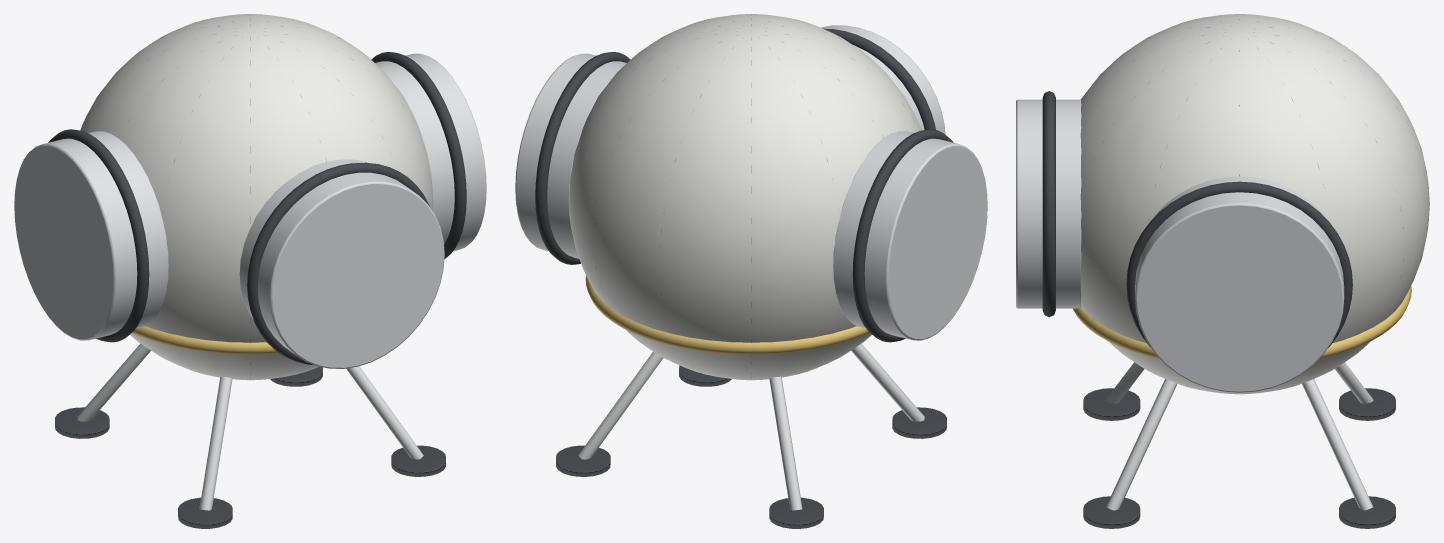
The model's file is node_module.glb.
3 renders of one model, left to right at view 1: azimuth 30°, elevation 25°; view 2: azimuth 150°, elevation 25°; view 3: azimuth 270°, elevation 25°, orthographic. The views are drawn at different scales.
Size of the model in its own units: 4.7 by 5 by 4.35.
